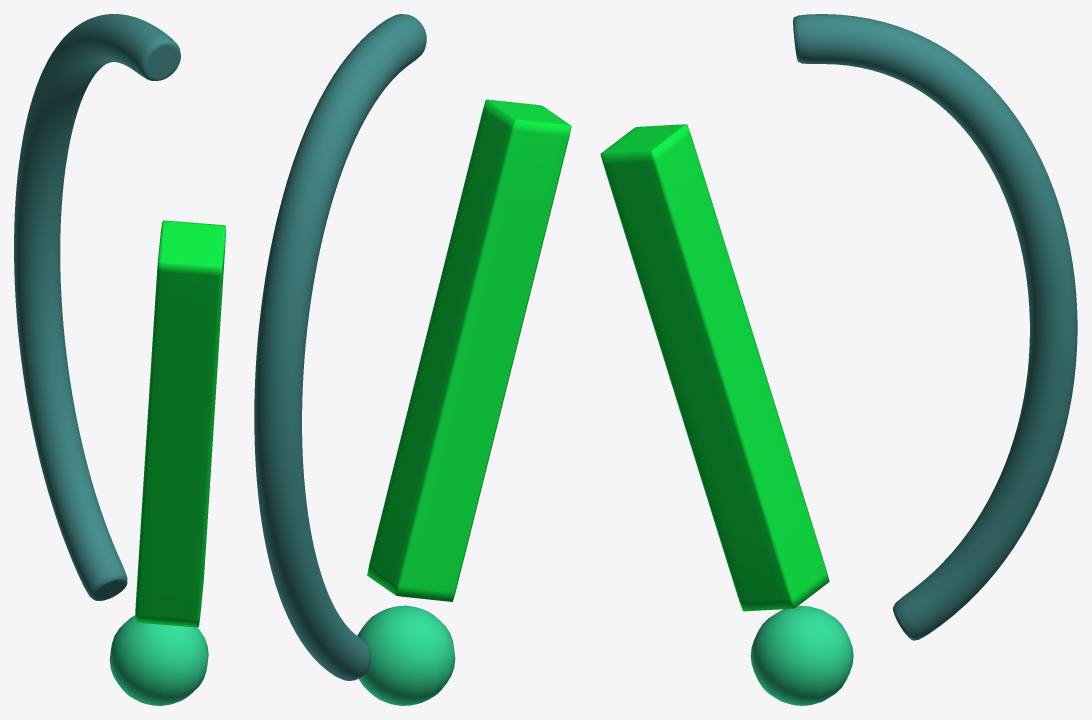
The model's file is V comp.glb.
3 views of the same model, side by side, from view 1: azimuth 30°, elevation 25°; view 2: azimuth 150°, elevation 25°; view 3: azimuth 270°, elevation 25° (orthographic). The views are drawn at different scales.
Visible parts, largest first — view 1: V; view 2: V; view 3: V.
Part boxes in pixels (left/top/right/bottom): V: left=14, top=14, right=225, bottom=705; V: left=254, top=14, right=571, bottom=705; V: left=600, top=14, right=1077, bottom=705.
Size of the model in its own units: 0.2467 by 1.26 by 0.7938.
Materials: 1 (1 with a texture image).
